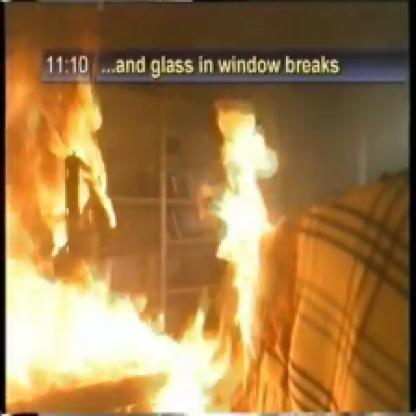fire: (80, 89, 301, 416), (0, 0, 120, 416)
